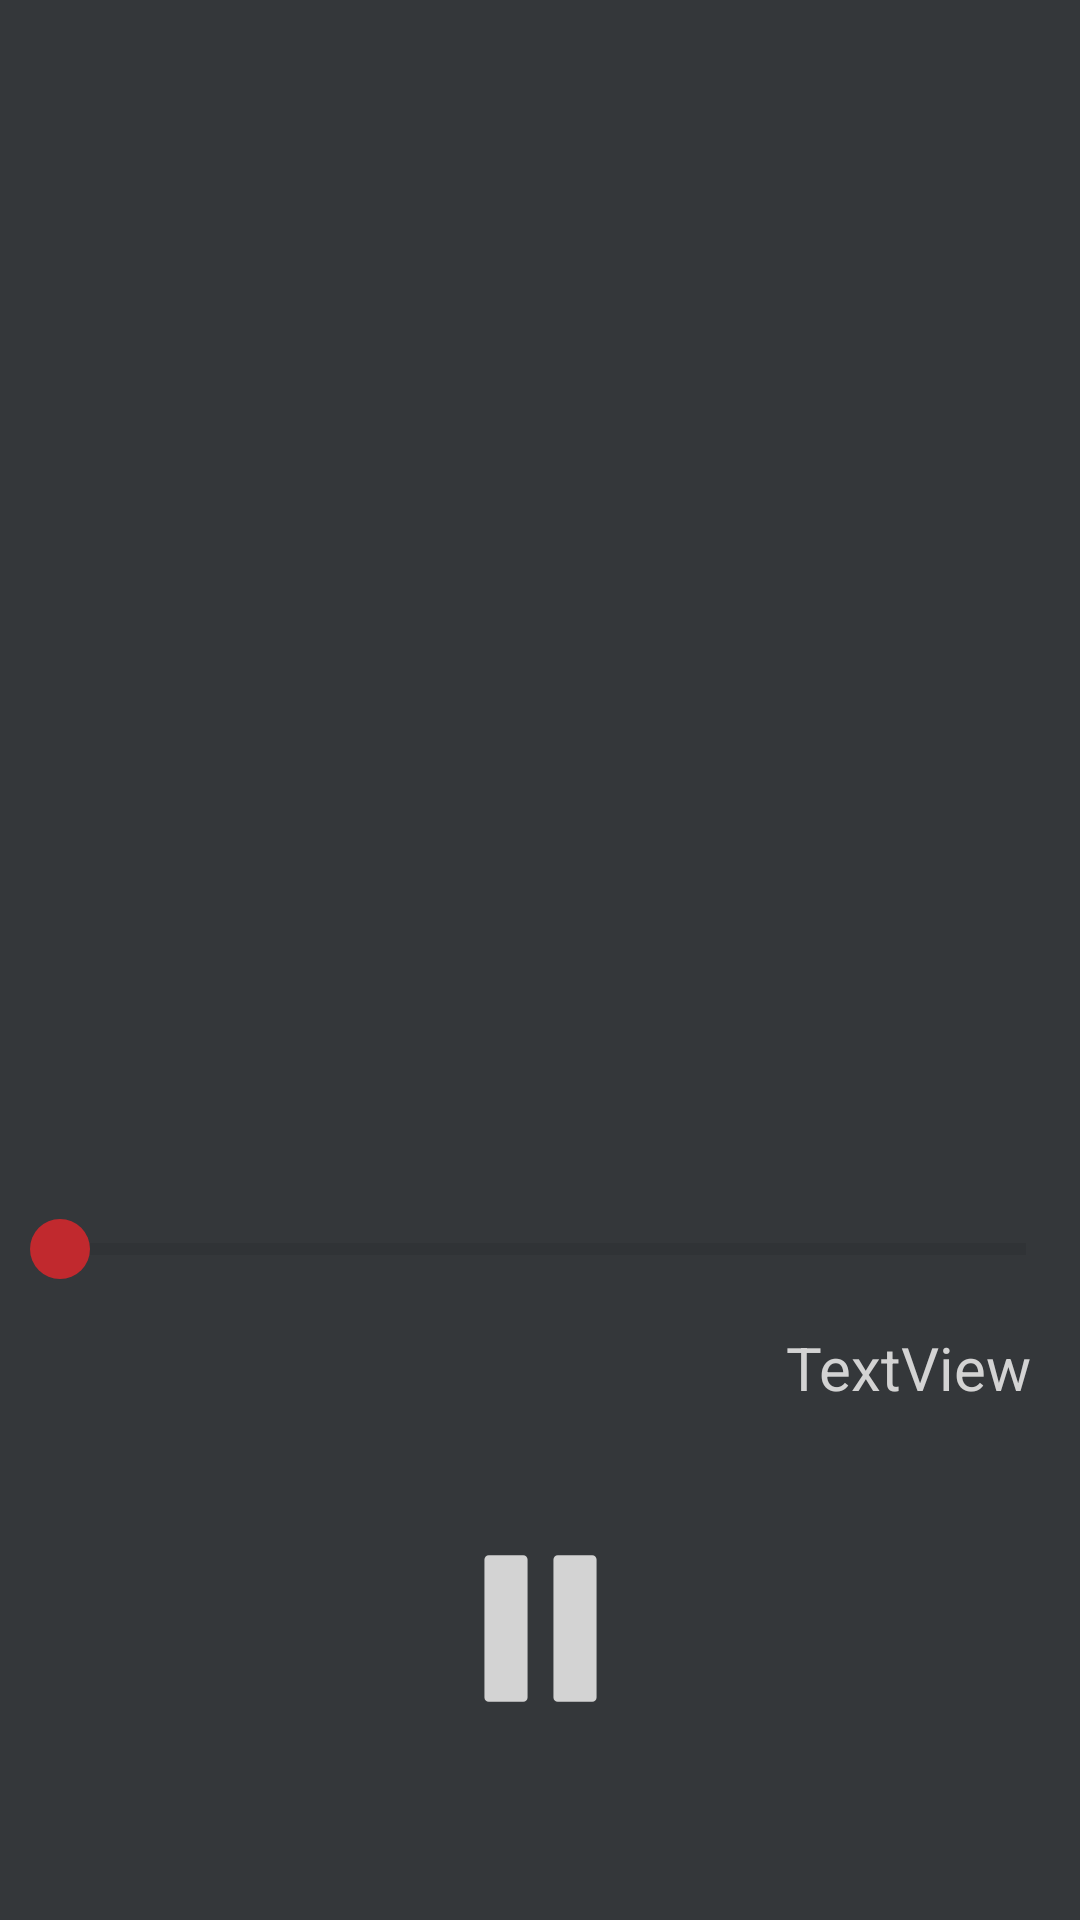

Icon bounding boxes for this 1080px x 1920px phone screenshot, format (x1, y1, x2, y2):
pause: (484, 1555, 597, 1702)
